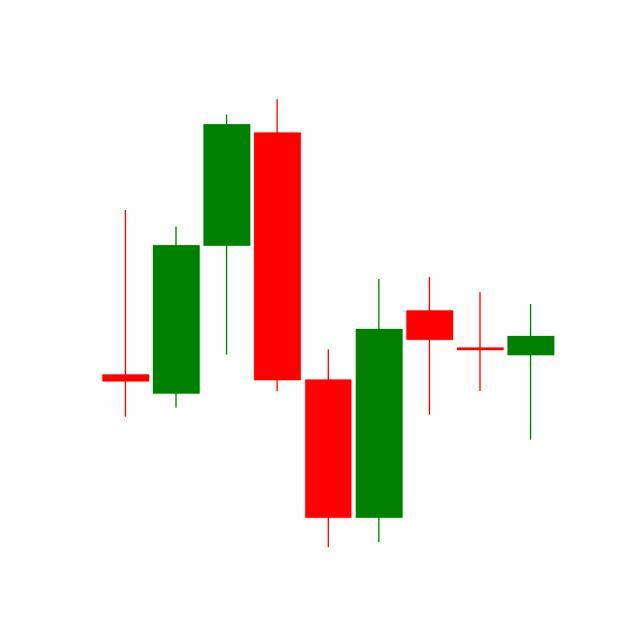Hikkake Pattern: (302, 274, 555, 549)
